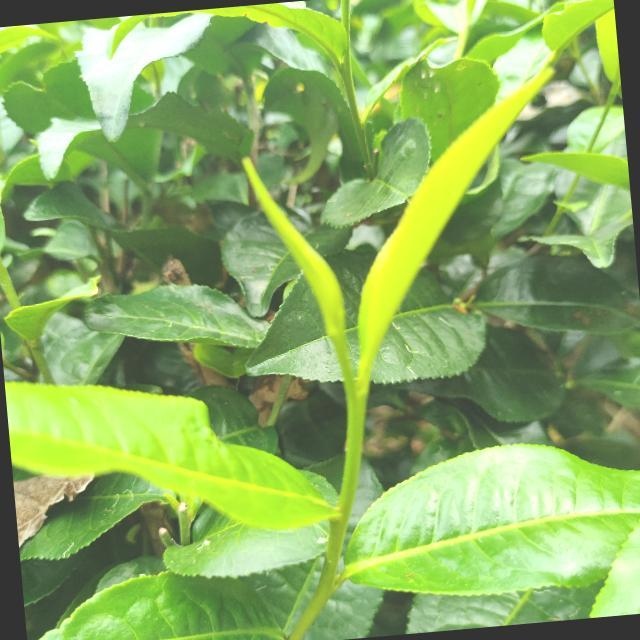Stem: (348, 395, 365, 424)
